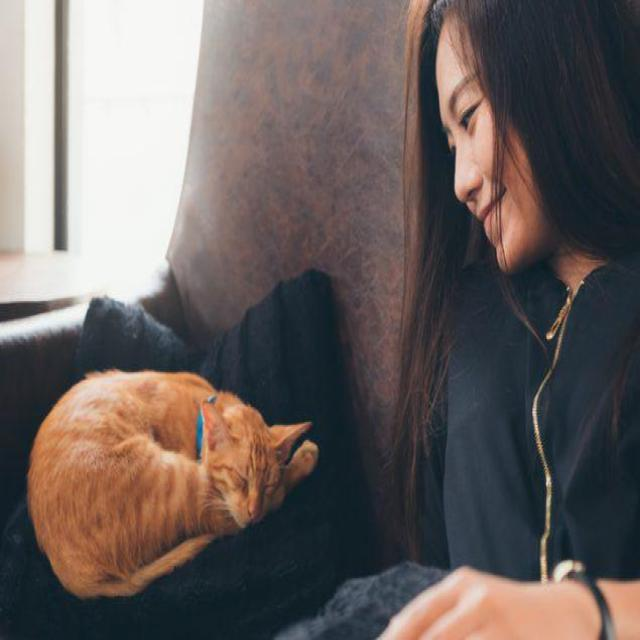Cat: (198, 391, 316, 534)
